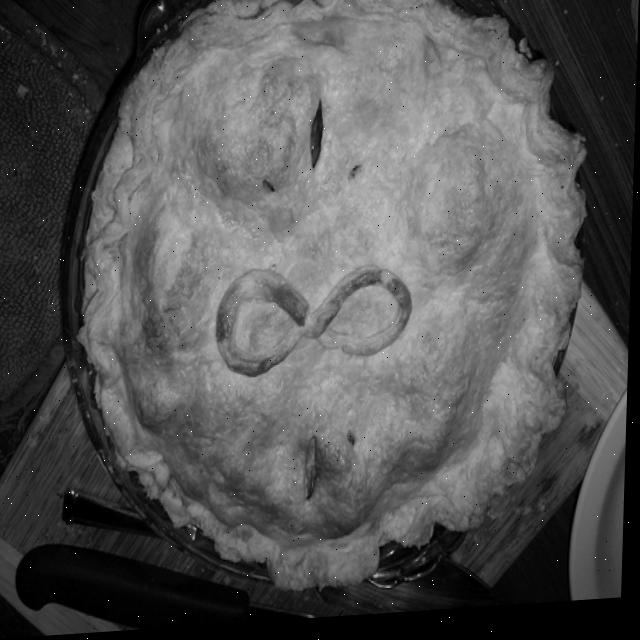炸货点心: (20, 0, 634, 605)
蛋糕甜品: (20, 0, 634, 605)
